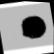correct: (19, 10, 50, 46)
